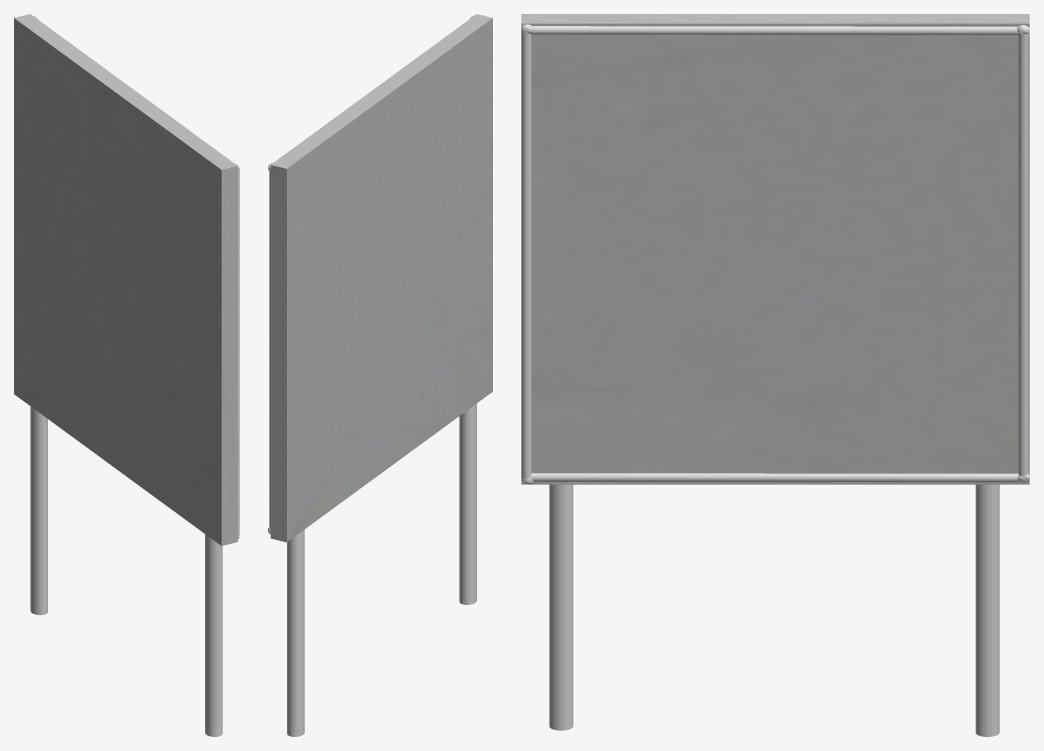
File: WithBoard.fbx_Collection.fbx
3 views of the same model, side by side, from view 1: azimuth 30°, elevation 25°; view 2: azimuth 150°, elevation 25°; view 3: azimuth 270°, elevation 25° (orthographic). The views are drawn at different scales.
Parts seen in each view (by area): view 1: Board, RightLeg, LeftLeg, SurfCylinder; view 2: Board, RightLeg, LeftLeg, SurfCylinder.001; view 3: Board, RightLeg, LeftLeg, SurfCylinder, SurfCylinder.001, SurfCylinder.003, SurfCylinder.002.
Boxes of the visible parts, x1,y1,x2,y2 form: Board: [14, 14, 237, 545]; RightLeg: [30, 406, 47, 615]; LeftLeg: [205, 534, 222, 736]; SurfCylinder: [238, 170, 239, 536]; Board: [270, 14, 492, 542]; RightLeg: [287, 529, 304, 736]; LeftLeg: [459, 403, 476, 604]; SurfCylinder.001: [269, 170, 270, 529]; Board: [521, 14, 1029, 484]; RightLeg: [975, 484, 999, 736]; LeftLeg: [549, 484, 573, 730]; SurfCylinder: [521, 31, 531, 479]; SurfCylinder.001: [1018, 33, 1028, 476]; SurfCylinder.003: [530, 473, 1021, 482]; SurfCylinder.002: [530, 26, 1019, 35].
Size of the model in its own units: 7.09 by 193 by 125.
Materials: 1 (1 with a texture image).
